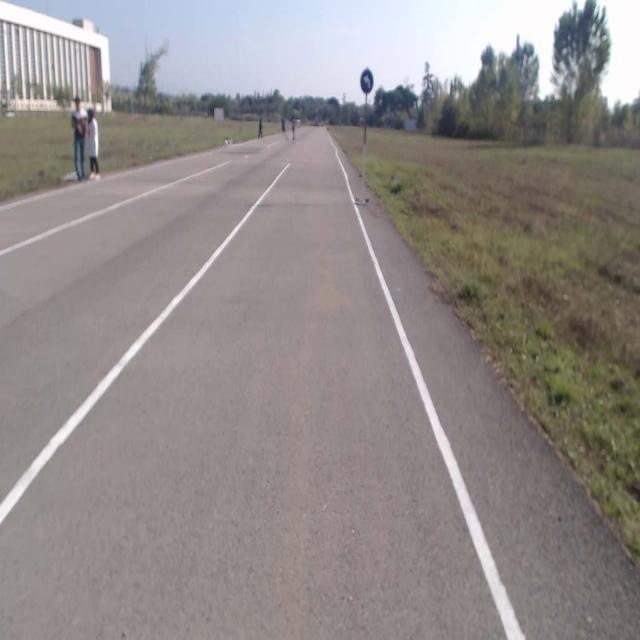sol: (361, 70, 373, 92)
